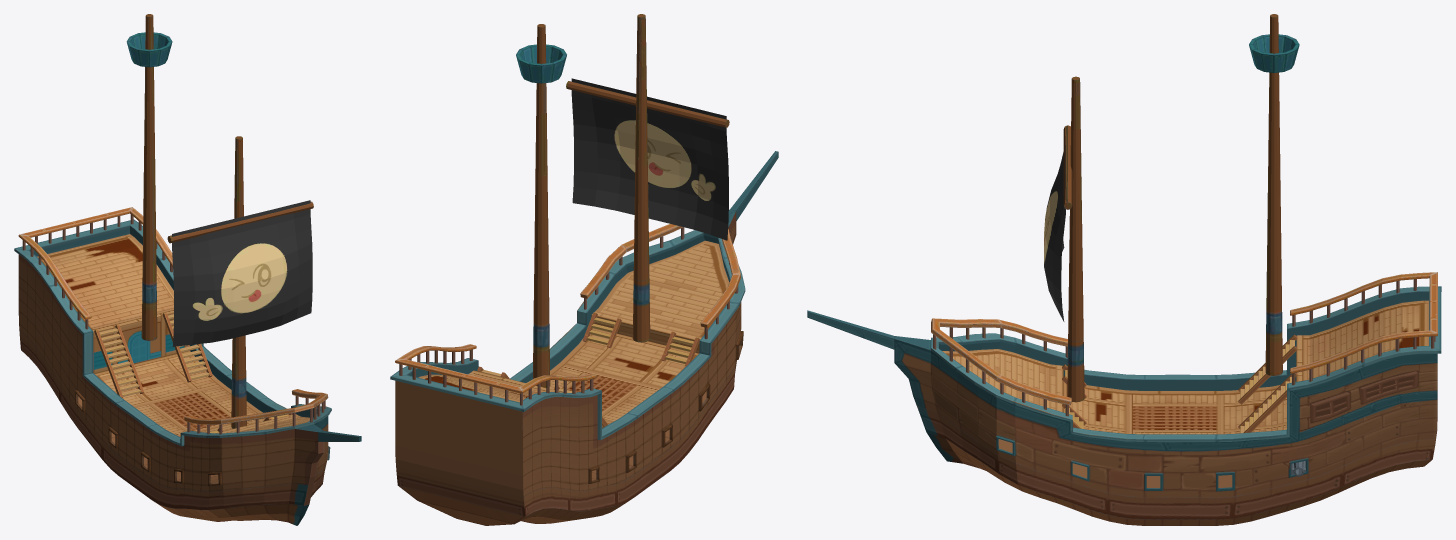
The model's file is ship_textured 1.fbx.
3 views of the same model, side by side, from view 1: azimuth 30°, elevation 25°; view 2: azimuth 150°, elevation 25°; view 3: azimuth 270°, elevation 25° (orthographic). The views are drawn at different scales.
Visible parts, largest first — view 1: hull, Sail, mast-2, handrail, mast, rails-r.004, rails-r.001, mast-Horizontal, back-railing, front-railing; view 2: hull, Sail, mast-2, mast, handrail, mast-Horizontal, back-railing, stairs-smol, rails-r.002; view 3: hull, mast-2, handrail, mast, Sail, rails-r.001, back-railing, rails-r.004, mast-Horizontal.
Part boxes in pixels (x1,y1,x2,y2): hull: (14,219,361,525); Sail: (172,200,312,346); mast-2: (126,14,172,340); handrail: (18,207,328,424); mast: (231,136,246,428); rails-r.004: (94,324,143,397); rails-r.001: (162,312,212,382); mast-Horizontal: (167,201,313,243); back-railing: (22,214,172,329); front-railing: (187,396,325,434); hull: (390,151,778,525); Sail: (571,78,728,240); mast-2: (516,24,566,387); mast: (632,14,650,342); handrail: (395,224,740,393); mast-Horizontal: (566,81,729,127); back-railing: (399,349,593,405); stairs-smol: (582,312,621,348); rails-r.002: (661,331,700,366); hull: (807,286,1441,525); mast-2: (1249,14,1299,375); handrail: (931,272,1437,405); mast: (1067,76,1084,402); Sail: (1044,127,1066,321); rails-r.001: (1238,373,1297,433); back-railing: (1292,279,1435,385); rails-r.004: (1238,334,1297,404); mast-Horizontal: (1063,125,1072,209).
Size of the model in its own units: 1249 by 3781 by 4345.
